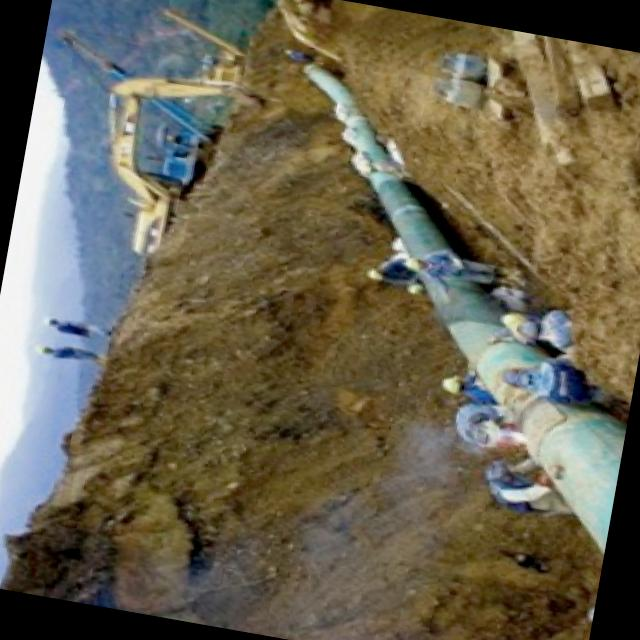gas: (304, 61, 625, 556)
